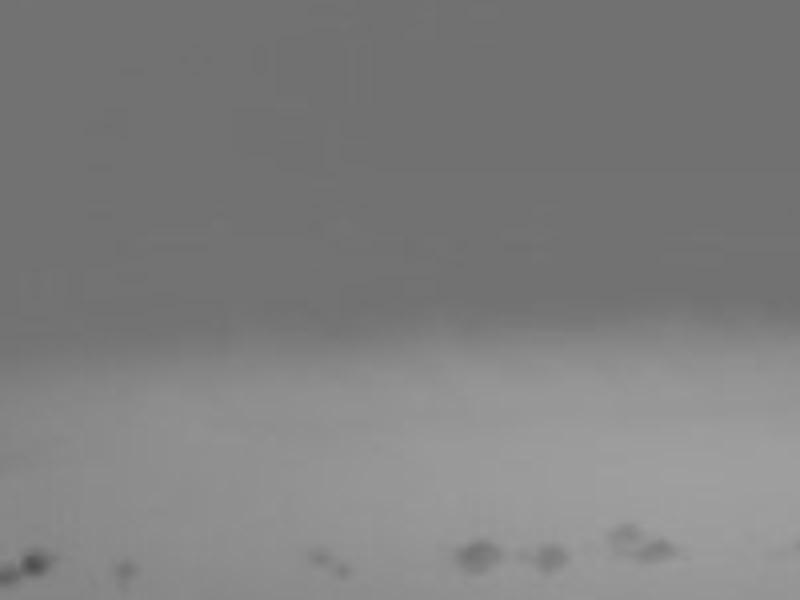defect: (454, 537, 505, 579), (533, 542, 573, 576), (636, 537, 677, 568), (601, 519, 637, 545), (20, 551, 55, 576), (111, 559, 140, 583), (306, 544, 333, 569), (333, 563, 353, 582), (1, 566, 18, 587)
